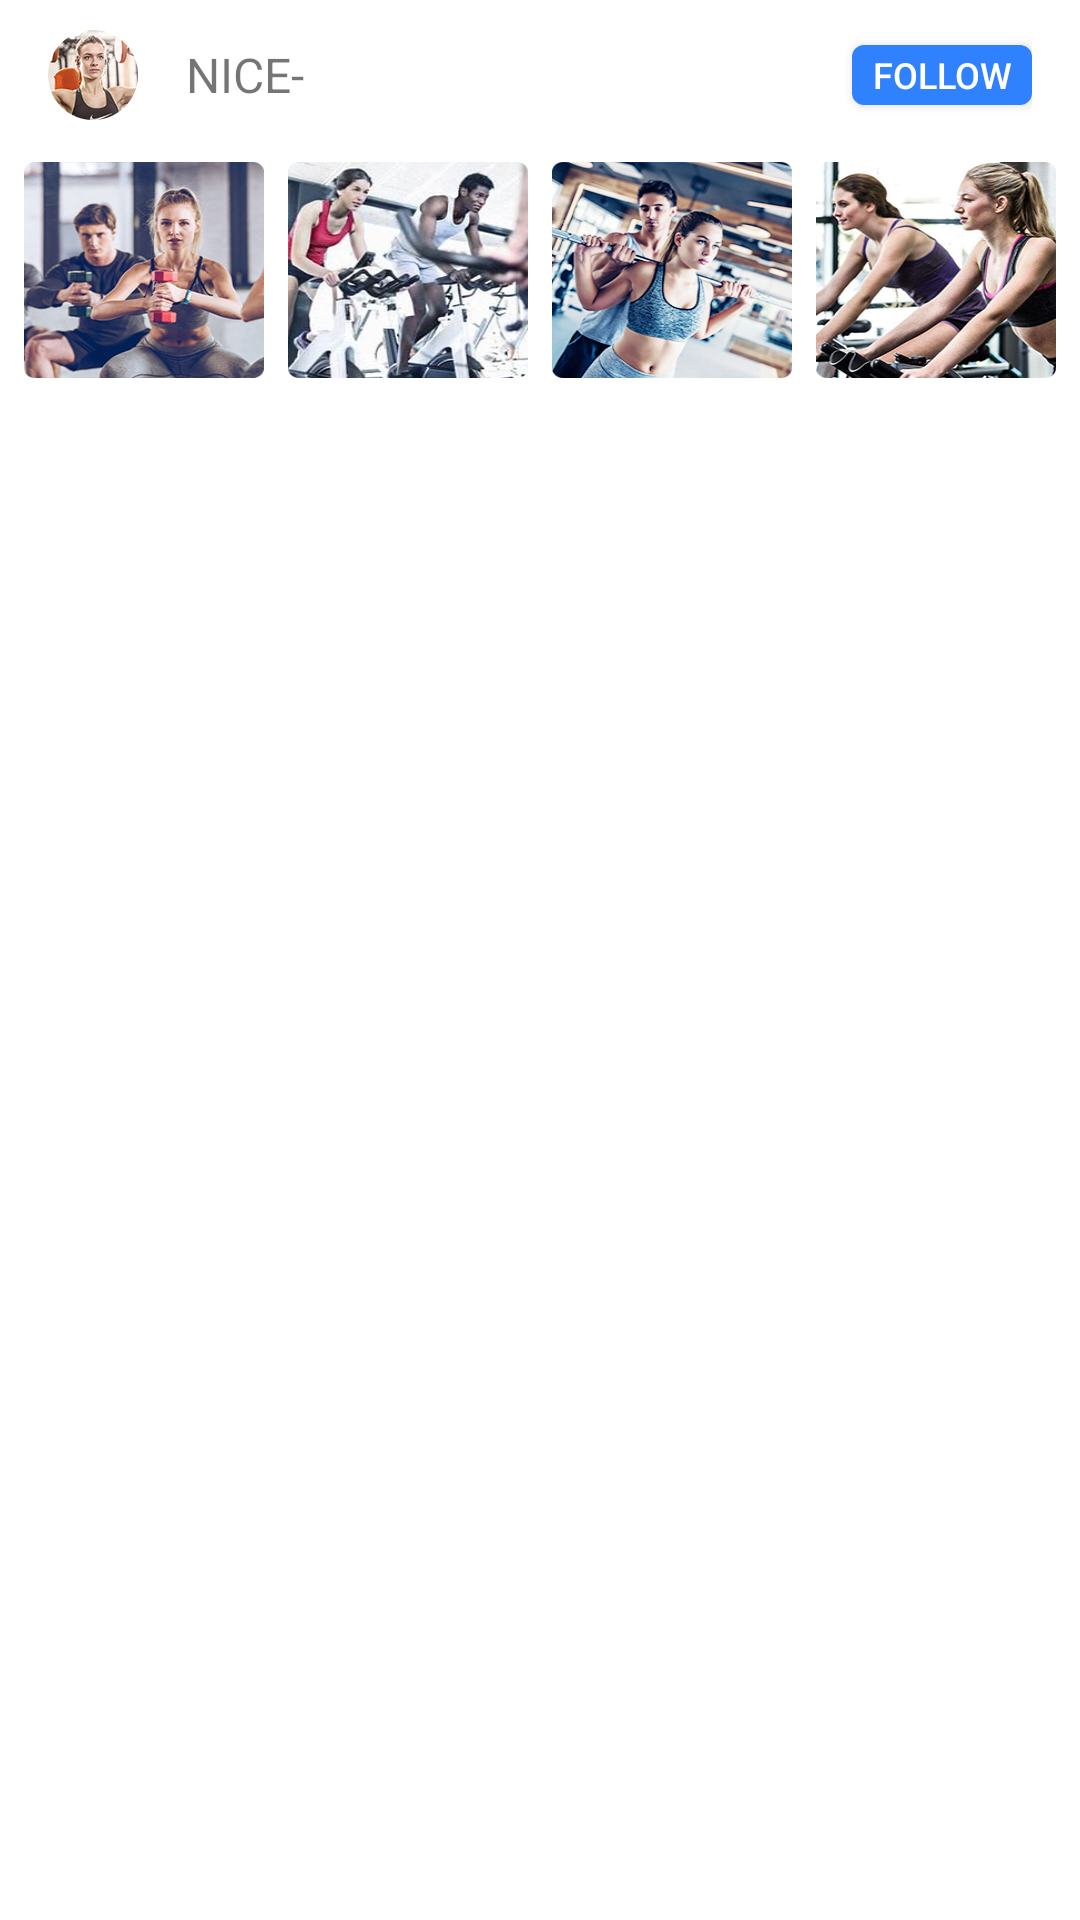

Icons on this 1080 × 1920 Android screen, each with its box as detection(x1, y1, x2, y2):
suggested follow head: detection(48, 30, 138, 120)
